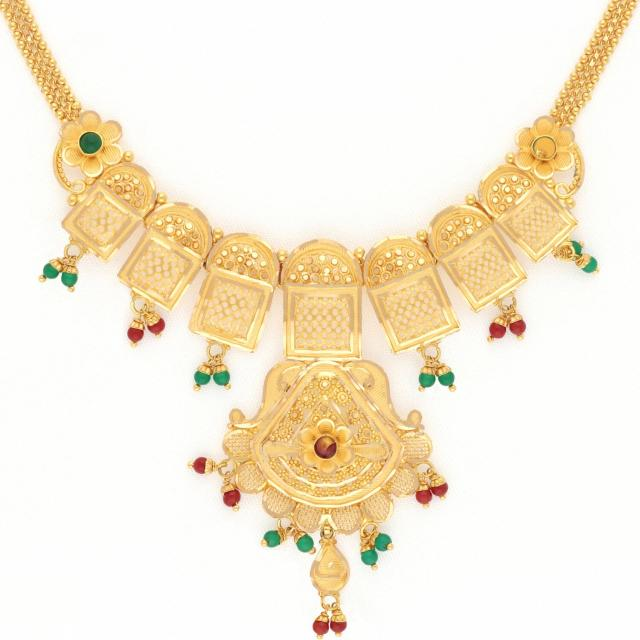missing gem: (533, 137, 556, 159)
